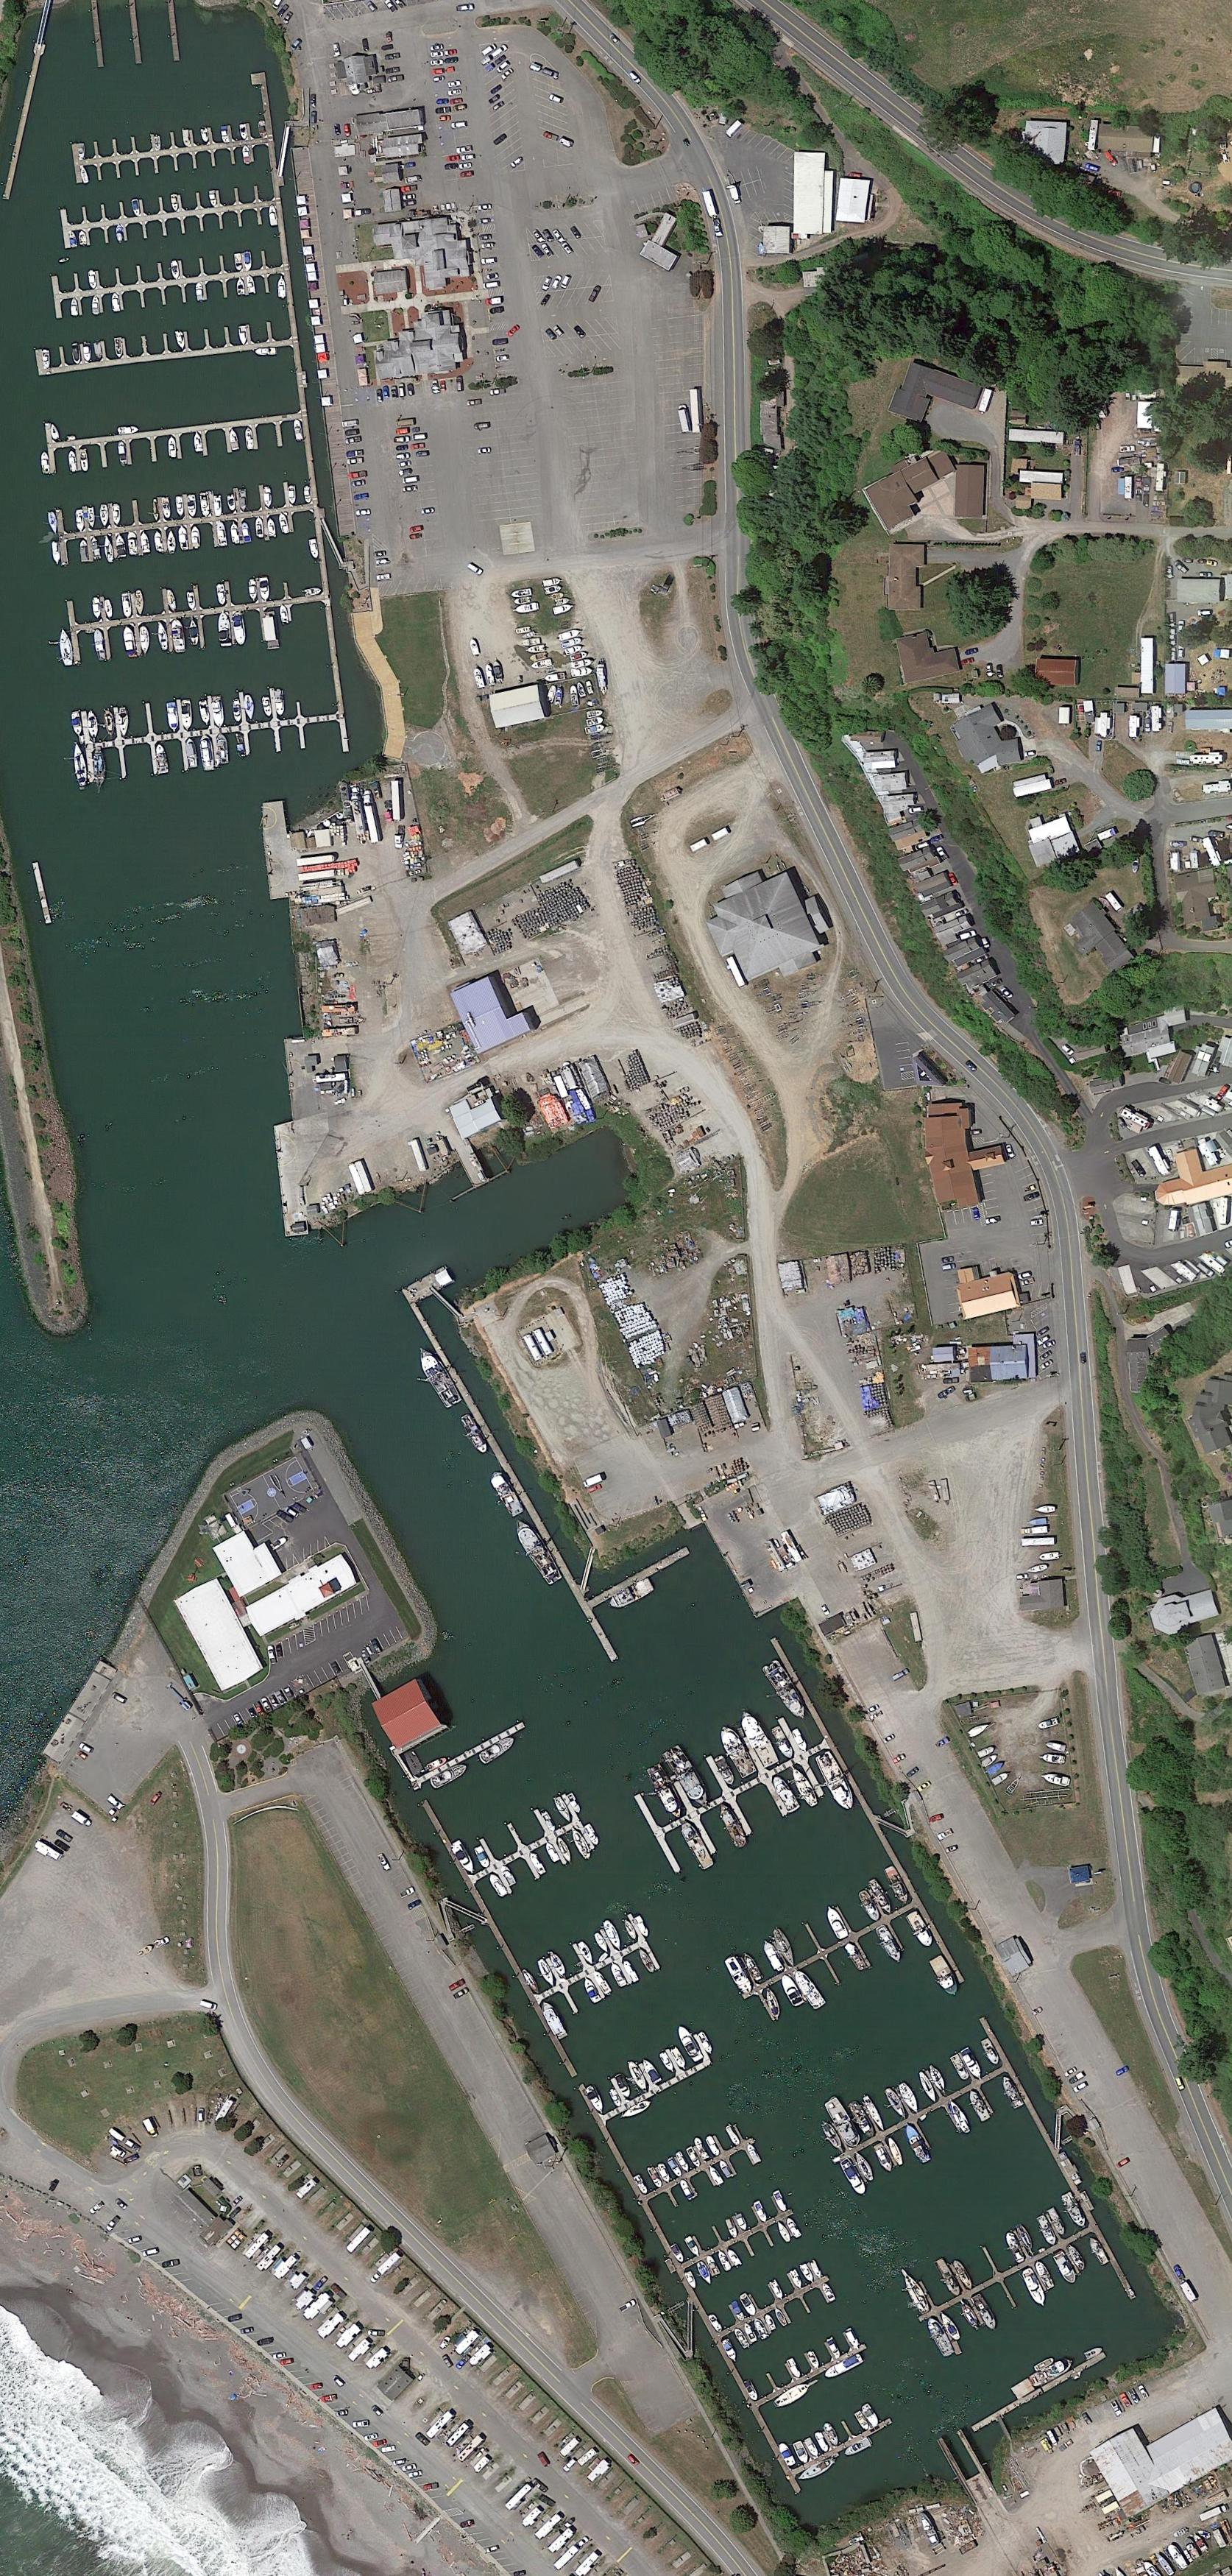harbor: (632, 1707, 849, 1876), (902, 2201, 1116, 2364), (810, 2038, 1023, 2193), (723, 1875, 934, 2029), (82, 680, 343, 783), (66, 568, 328, 664), (57, 478, 316, 566), (46, 389, 305, 475), (51, 245, 285, 319), (522, 1911, 662, 2027), (457, 1791, 596, 1906), (60, 179, 277, 251), (35, 317, 293, 378), (671, 2188, 804, 2291), (73, 119, 270, 185), (711, 2257, 840, 2357), (635, 2118, 765, 2215), (969, 2349, 1108, 2435), (589, 2032, 715, 2123), (746, 2325, 869, 2410), (2, 3, 53, 202), (780, 2399, 893, 2478), (417, 1720, 528, 1785), (936, 2428, 998, 2507), (91, 1, 106, 68), (128, 0, 144, 65), (166, 0, 182, 62)
ship: (510, 1517, 564, 1587), (661, 1744, 714, 1812), (413, 1343, 465, 1411), (761, 1659, 811, 1723), (1010, 2354, 1076, 2401), (813, 1750, 858, 1813), (735, 1708, 779, 1769), (645, 1761, 687, 1823), (715, 1723, 757, 1779), (821, 2096, 865, 2150), (677, 1817, 716, 1871), (488, 1468, 527, 1519), (925, 1952, 963, 2000), (897, 2265, 932, 2316), (607, 1577, 655, 1612), (717, 1802, 750, 1851), (787, 1763, 821, 1811), (791, 1967, 827, 2011), (458, 1412, 492, 1456), (924, 2315, 957, 2360), (873, 1924, 906, 1966), (723, 1954, 755, 1997), (538, 1999, 570, 2042), (838, 2156, 871, 2198), (932, 2256, 964, 2298), (769, 1926, 800, 1969), (1019, 2266, 1049, 2309), (673, 2022, 705, 2064), (902, 2123, 933, 2165), (846, 2100, 878, 2140), (904, 1910, 935, 1950), (882, 1865, 912, 1907), (478, 1734, 518, 1765), (770, 1774, 801, 1814), (1059, 2191, 1090, 2231), (773, 2380, 813, 2411), (428, 1761, 469, 1791), (865, 1877, 895, 1916), (971, 2293, 1000, 2333), (823, 2353, 864, 2381), (797, 2456, 837, 2483), (1052, 2250, 1080, 2287), (820, 2120, 848, 2157), (861, 2094, 888, 2132), (768, 1724, 796, 1760), (823, 1904, 850, 1941), (450, 1840, 478, 1877), (896, 2081, 924, 2117), (882, 2086, 910, 2122), (779, 1972, 805, 2008), (916, 2510, 941, 2547), (947, 2100, 973, 2136), (625, 2059, 651, 2094), (857, 1888, 882, 1924), (760, 1938, 785, 1974), (957, 2298, 983, 2332), (960, 2047, 985, 2081), (999, 2075, 1024, 2110), (925, 2062, 951, 2097), (712, 1754, 737, 1789), (569, 1827, 594, 1862), (1003, 2229, 1027, 2265), (1034, 2214, 1059, 2248), (1164, 2540, 1190, 2572), (916, 2071, 940, 2106), (951, 2259, 976, 2292), (967, 2089, 991, 2122), (601, 1919, 625, 1952), (620, 2098, 653, 2122), (843, 1941, 868, 1973), (938, 2311, 963, 2343), (871, 2142, 896, 2174), (852, 2150, 876, 2183), (762, 1986, 785, 2020), (262, 611, 281, 651), (1086, 2236, 1110, 2268), (1013, 2223, 1037, 2254), (535, 1958, 559, 1989), (741, 1951, 765, 1983), (57, 627, 75, 667), (546, 1949, 570, 1980), (72, 744, 88, 787), (92, 749, 108, 793), (585, 2084, 607, 2116), (980, 2039, 1002, 2068), (1045, 2207, 1068, 2237), (1033, 2260, 1055, 2290), (552, 1795, 574, 1825), (199, 735, 216, 772), (885, 2136, 906, 2167), (1066, 2243, 1088, 2273), (635, 1947, 657, 1976), (1153, 2549, 1177, 2576), (591, 1968, 613, 1997), (821, 2421, 842, 2449), (581, 1975, 602, 2005), (522, 1967, 542, 1997), (949, 2054, 971, 2082), (844, 2438, 871, 2459), (641, 2058, 662, 2085), (487, 1871, 509, 1899), (1041, 1769, 1072, 1788), (860, 2402, 882, 2429), (614, 2072, 634, 2100), (121, 625, 138, 658), (609, 1961, 629, 1989), (171, 618, 186, 654), (232, 612, 247, 647), (777, 2441, 797, 2469), (218, 612, 233, 648), (576, 1941, 597, 1966), (792, 2439, 812, 2466), (555, 1837, 575, 1863), (738, 2293, 759, 2318), (695, 2260, 715, 2286), (92, 628, 107, 662), (790, 1728, 810, 1754), (473, 1845, 492, 1870), (211, 696, 226, 728), (692, 2136, 710, 2162), (696, 2031, 715, 2055), (670, 2047, 689, 2071), (528, 1852, 547, 1876), (621, 1960, 640, 1984), (966, 1721, 991, 1740), (155, 621, 170, 652), (775, 2219, 793, 2245), (1182, 2540, 1203, 2562), (1191, 2533, 1211, 2556), (592, 1931, 612, 1955), (721, 2338, 739, 2362), (646, 2165, 665, 2189), (751, 2200, 770, 2224), (658, 2052, 677, 2075), (583, 1824, 601, 1847), (539, 1810, 558, 1833), (684, 2145, 703, 2169), (704, 2134, 722, 2158), (665, 2156, 684, 2179), (684, 2235, 702, 2259), (743, 2379, 760, 2403), (826, 2336, 843, 2360), (771, 2189, 789, 2214), (715, 2248, 733, 2273), (424, 1755, 448, 1773), (185, 738, 199, 768), (166, 702, 180, 733), (799, 2262, 816, 2286), (634, 1916, 651, 1939), (724, 2124, 742, 2148), (674, 2150, 692, 2174), (785, 2217, 802, 2240), (814, 2430, 831, 2455), (989, 1770, 1011, 1788), (729, 2300, 747, 2323), (768, 2279, 786, 2301), (786, 2357, 804, 2380), (499, 1864, 517, 1887), (984, 1760, 1007, 1777), (216, 734, 229, 764), (742, 2321, 759, 2344), (707, 2313, 725, 2335), (733, 2327, 751, 2349), (854, 2410, 871, 2432), (844, 2328, 862, 2350), (669, 2242, 687, 2265), (181, 700, 194, 731), (1033, 2356, 1055, 2373), (752, 2317, 769, 2340), (745, 2142, 762, 2164), (544, 1841, 561, 1863), (513, 601, 540, 615), (155, 744, 169, 773), (804, 2437, 821, 2459), (622, 1919, 639, 1941), (633, 2174, 650, 2196), (566, 1793, 583, 1815), (116, 440, 130, 466), (788, 2268, 804, 2291), (118, 707, 130, 737), (138, 626, 151, 655), (558, 628, 583, 643), (1037, 1715, 1061, 1731), (71, 711, 84, 738), (234, 732, 247, 759), (88, 535, 102, 561), (87, 710, 99, 738), (704, 2255, 721, 2277), (103, 710, 116, 737), (198, 700, 211, 727), (820, 2282, 837, 2302), (980, 1752, 1000, 1769), (708, 2165, 724, 2187), (656, 2162, 672, 2184), (1039, 1753, 1066, 1765), (103, 535, 115, 564), (773, 2307, 789, 2327), (806, 2350, 822, 2371), (608, 2088, 624, 2109), (679, 2178, 695, 2199), (725, 2217, 740, 2240), (165, 588, 178, 613), (726, 2248, 742, 2268), (1083, 2346, 1104, 2361), (244, 694, 256, 719), (177, 525, 189, 551), (718, 2159, 733, 2178), (684, 2270, 699, 2290), (734, 2212, 749, 2232), (976, 1744, 996, 1760), (552, 603, 576, 615), (472, 666, 486, 689), (1045, 1740, 1068, 1753), (275, 689, 286, 716), (135, 1944, 155, 1959), (269, 1535, 288, 1550), (277, 512, 290, 535), (1038, 1550, 1062, 1562), (134, 589, 145, 615), (47, 511, 59, 535), (492, 660, 504, 684), (127, 531, 139, 555), (199, 493, 211, 518), (149, 498, 161, 522), (560, 637, 583, 649), (121, 593, 132, 618), (216, 521, 227, 547), (484, 663, 496, 687), (570, 666, 594, 678), (153, 530, 165, 554), (232, 698, 243, 723), (188, 620, 199, 646), (292, 418, 304, 441), (71, 342, 82, 365), (531, 658, 552, 671), (1027, 1562, 1049, 1575), (308, 538, 320, 560), (116, 534, 127, 557), (584, 724, 606, 735), (175, 330, 188, 350), (763, 2313, 777, 2332), (161, 497, 172, 520), (261, 696, 273, 718), (228, 429, 240, 451), (238, 325, 249, 347), (256, 119, 268, 140), (52, 542, 62, 566), (79, 449, 90, 473), (564, 644, 584, 657), (468, 637, 481, 657), (511, 588, 533, 599), (1027, 1516, 1049, 1527), (103, 599, 115, 620), (542, 576, 563, 588), (244, 427, 255, 451), (40, 451, 50, 474), (166, 531, 177, 554), (1033, 1504, 1057, 1514), (279, 604, 290, 625), (260, 578, 270, 601), (546, 684, 558, 704), (216, 584, 227, 606), (571, 659, 593, 669), (99, 505, 110, 527), (263, 486, 273, 508), (140, 532, 150, 554), (88, 269, 99, 290), (76, 509, 85, 533), (230, 521, 240, 545), (520, 629, 537, 643), (545, 672, 566, 682), (114, 337, 124, 359), (193, 431, 203, 453), (68, 451, 78, 472), (241, 522, 252, 543), (255, 516, 264, 539), (277, 276, 287, 299), (304, 586, 322, 598), (219, 126, 231, 144), (188, 494, 197, 518), (118, 426, 139, 436), (238, 489, 248, 511), (49, 423, 60, 441), (91, 295, 102, 315), (111, 293, 121, 313), (246, 275, 256, 295), (243, 252, 253, 272), (241, 145, 252, 165), (80, 540, 90, 562), (249, 579, 258, 601), (544, 585, 562, 596), (587, 716, 605, 727), (530, 652, 548, 663), (93, 342, 104, 360), (1130, 855, 1141, 874), (66, 230, 77, 249), (87, 507, 96, 528), (570, 652, 589, 662), (191, 526, 201, 547), (171, 261, 181, 280), (269, 205, 278, 226), (41, 349, 51, 370), (93, 598, 102, 620), (576, 681, 587, 699), (1197, 2527, 1212, 2540), (116, 224, 125, 244), (186, 592, 197, 610), (131, 200, 141, 218), (176, 496, 185, 518), (255, 347, 278, 356), (522, 638, 541, 647), (234, 253, 244, 272), (195, 283, 205, 302), (527, 644, 545, 654), (587, 709, 604, 719), (570, 685, 579, 706), (113, 504, 121, 525), (79, 166, 90, 184), (236, 278, 246, 296), (182, 129, 191, 147), (267, 518, 276, 537), (169, 437, 177, 458), (303, 486, 313, 504), (227, 495, 236, 512), (209, 190, 219, 208), (214, 496, 222, 517), (77, 143, 85, 161), (554, 597, 571, 607), (238, 124, 248, 141), (153, 135, 163, 152), (84, 342, 92, 362), (171, 194, 180, 212), (555, 688, 563, 707), (71, 297, 79, 317), (515, 625, 531, 635), (288, 486, 297, 504), (201, 128, 210, 144), (79, 231, 88, 246), (58, 256, 70, 264)
